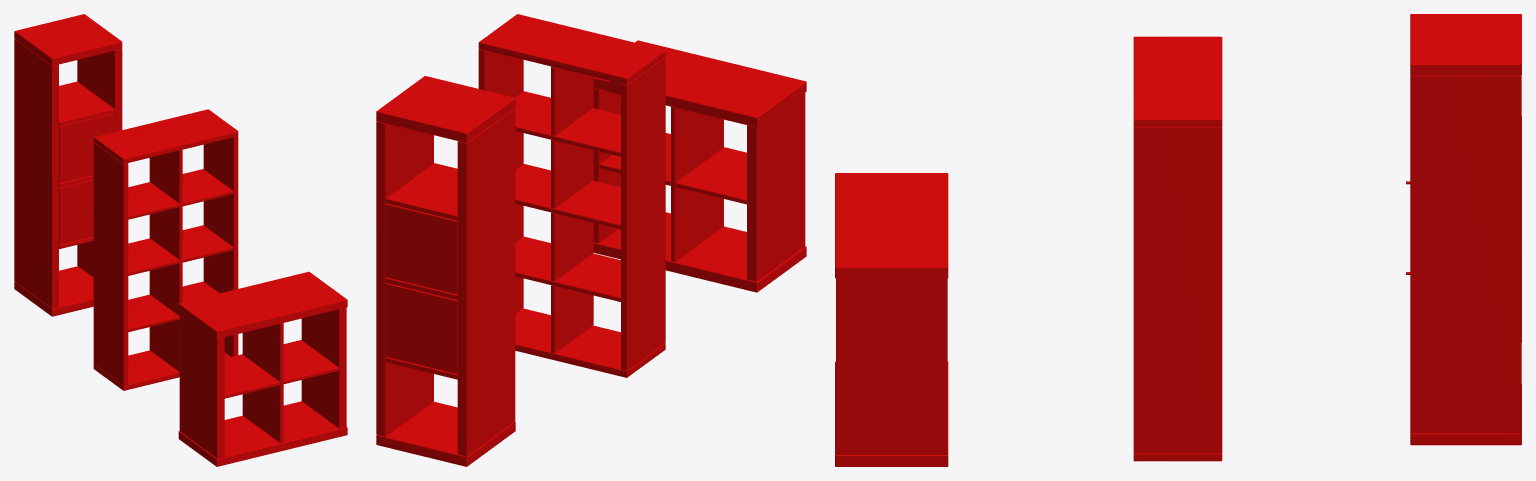
Rendered from thorkea_shelving_units_grp.fbx.
3 views of the same model, side by side, from view 1: azimuth 30°, elevation 25°; view 2: azimuth 150°, elevation 25°; view 3: azimuth 270°, elevation 25° (orthographic). The views are drawn at different scales.
Visible parts, largest first — view 1: thorkea_shelving_unit_flysta, thorkea_shelving_unit_kallax_small, thorkea_shelving_unit_kallax_large; view 2: thorkea_shelving_unit_kallax_large, thorkea_shelving_unit_flysta, thorkea_shelving_unit_kallax_small; view 3: thorkea_shelving_unit_kallax_large, thorkea_shelving_unit_flysta, thorkea_shelving_unit_kallax_small.
Part boxes in pixels (bbox=[...]): thorkea_shelving_unit_flysta: bbox=[93, 109, 238, 390]; thorkea_shelving_unit_kallax_small: bbox=[178, 271, 347, 466]; thorkea_shelving_unit_kallax_large: bbox=[14, 14, 122, 316]; thorkea_shelving_unit_kallax_large: bbox=[376, 76, 515, 466]; thorkea_shelving_unit_flysta: bbox=[478, 14, 665, 377]; thorkea_shelving_unit_kallax_small: bbox=[593, 40, 806, 292]; thorkea_shelving_unit_kallax_large: bbox=[1406, 14, 1521, 445]; thorkea_shelving_unit_flysta: bbox=[1133, 36, 1222, 461]; thorkea_shelving_unit_kallax_small: bbox=[835, 173, 948, 466].
Bounding box in the file's own units: 77.99 × 147 × 240.
